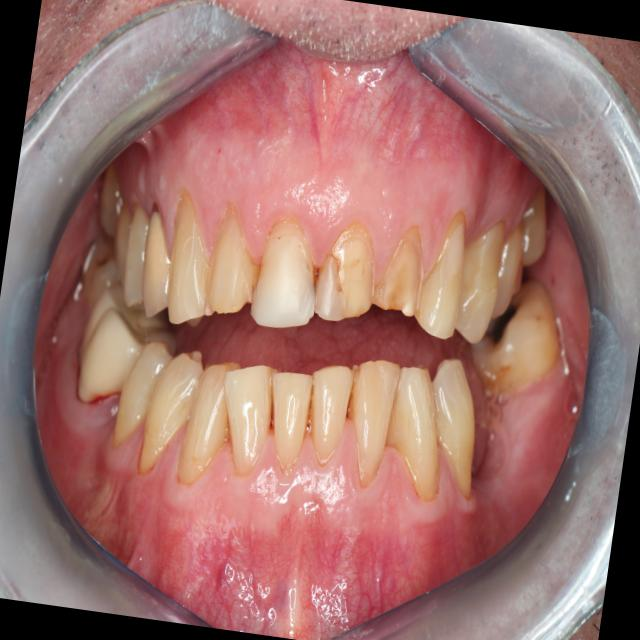tooth: (460, 249, 582, 412), (67, 275, 189, 419), (376, 350, 461, 513), (410, 347, 495, 509), (329, 347, 408, 506), (241, 203, 332, 341), (154, 183, 235, 336), (192, 189, 274, 331), (131, 340, 211, 485), (442, 192, 515, 350), (205, 355, 287, 492), (173, 350, 248, 493), (410, 193, 479, 347), (305, 212, 390, 331), (128, 189, 200, 325), (106, 327, 179, 456), (255, 356, 321, 487), (76, 236, 162, 331), (296, 353, 362, 474), (368, 214, 437, 326), (480, 208, 537, 327), (116, 199, 166, 314), (508, 173, 559, 273), (102, 196, 148, 297), (90, 159, 137, 244)
